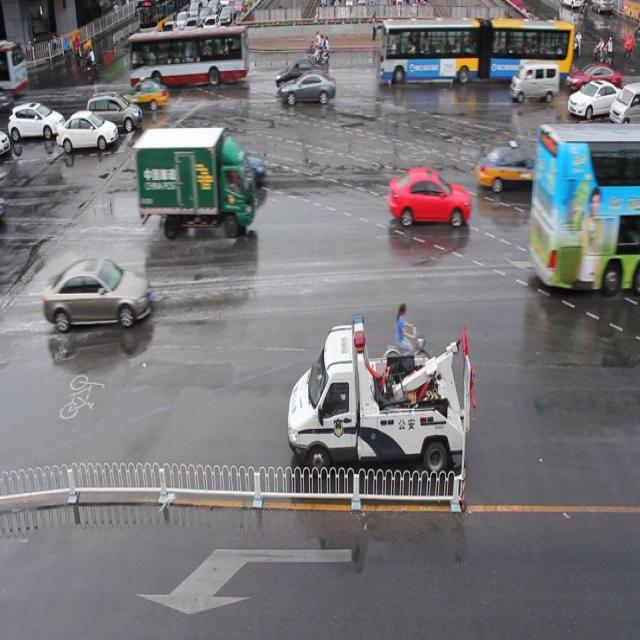bus: (135, 128, 258, 238)
car: (43, 257, 152, 327), (387, 168, 469, 226), (476, 144, 550, 194), (208, 146, 269, 196), (566, 78, 623, 118), (280, 71, 336, 106), (275, 58, 326, 90)
truck: (509, 60, 559, 102)
van: (530, 123, 640, 294), (378, 18, 572, 83), (128, 27, 249, 88)
